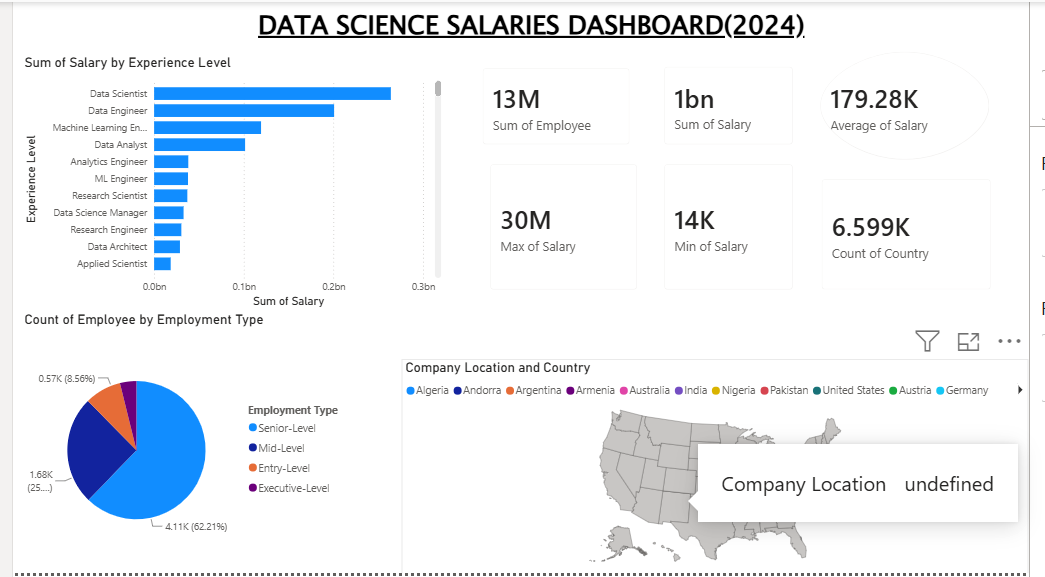

This screenshot's page, from the dashboard's own definition file:
{"tool":"powerbi","page":{"name":"Page 2","canvas":[1280,720],"ordinal":1},"visuals":[{"type":"barChart","fields":{"Category":["data_science_salaries.Experience Level"],"Y":["Sum(data_science_salaries.Salary )"]},"box":[9.4,66.1,534.8,323.2],"z":0},{"type":"pieChart","fields":{"Category":["data_science_salaries.Employment Type"],"Y":["CountNonNull(data_science_salaries.Employee Residence)"]},"box":[9.4,389.3,419.5,330.7],"z":1000},{"type":"shapeMap","fields":{"Category":["data_science_salaries.Company Location"],"Series":["data_science_salaries.Country"]},"box":[489.5,449.8,789.9,270.2],"z":2000},{"type":"textbox","box":[255.1,0,795.6,64.3],"z":3000},{"type":"cardVisual","fields":{"Data":["Sum(data_science_salaries.Employee Residence)"]},"box":[574.5,66.1,219.2,130.4],"z":4000},{"type":"cardVisual","fields":{"Data":["Sum(data_science_salaries.Salary )"]},"box":[803.2,64.3,196.5,132.3],"z":5000},{"type":"cardVisual","fields":{"Data":["Avg(data_science_salaries.Salary )"]},"box":[999.7,45.4,247.6,170.1],"z":6000},{"type":"cardVisual","fields":{"Data":["Max(data_science_salaries.Salary )"]},"box":[583.9,187.1,219.2,192.8],"z":7000},{"type":"cardVisual","fields":{"Data":["Min(data_science_salaries.Salary )"]},"box":[803.2,187.1,196.5,192.8],"z":8000},{"type":"cardVisual","fields":{"Data":["CountNonNull(data_science_salaries.Country)"]},"box":[1001.6,206,247.6,173.9],"z":9000}]}

Visuals, with their boxes in screenshot pixels (x1, y1, x2, y2), scaled from the page's 1280x720 canvas onto the 1045x577 screenshot:
barChart - data_science_salaries.Experience Level x Sum(data_science_salaries.Salary ): [x1=8, y1=53, x2=444, y2=312]
pieChart - data_science_salaries.Employment Type x CountNonNull(data_science_salaries.Employee Residence): [x1=8, y1=312, x2=350, y2=576]
shapeMap - data_science_salaries.Company Location x data_science_salaries.Country: [x1=400, y1=360, x2=1044, y2=576]
textbox: [x1=208, y1=0, x2=858, y2=52]
cardVisual - Sum(data_science_salaries.Employee Residence): [x1=469, y1=53, x2=648, y2=157]
cardVisual - Sum(data_science_salaries.Salary ): [x1=656, y1=52, x2=816, y2=158]
cardVisual - Avg(data_science_salaries.Salary ): [x1=816, y1=36, x2=1018, y2=173]
cardVisual - Max(data_science_salaries.Salary ): [x1=477, y1=150, x2=656, y2=304]
cardVisual - Min(data_science_salaries.Salary ): [x1=656, y1=150, x2=816, y2=304]
cardVisual - CountNonNull(data_science_salaries.Country): [x1=818, y1=165, x2=1020, y2=304]
